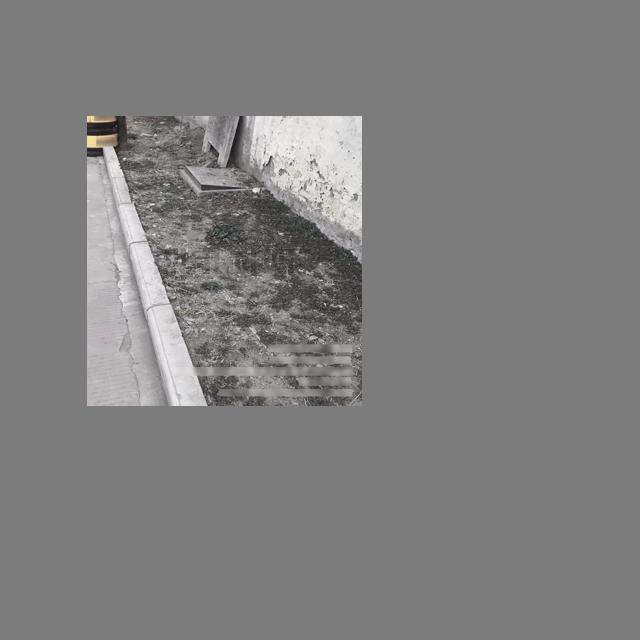uncovered: (179, 165, 252, 195)
